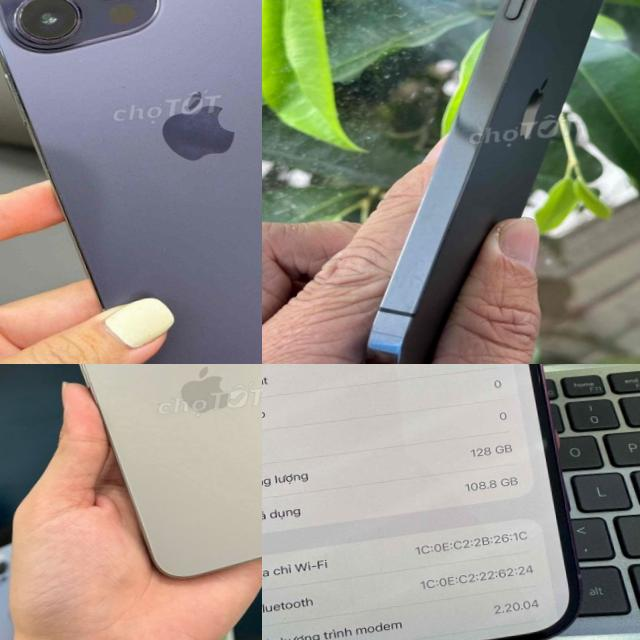gen_12_13: (310, 0, 640, 364)
gen_14: (0, 0, 262, 364)
gen_15: (28, 364, 262, 581)
gen_16: (262, 364, 593, 640)
